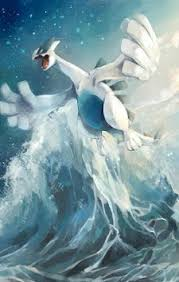lugia: (32, 37, 61, 71)
